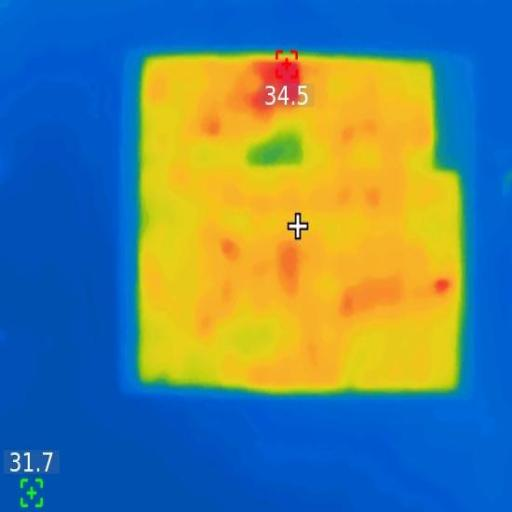hotspot: (254, 62, 306, 110), (280, 241, 306, 295), (204, 116, 223, 143), (436, 278, 454, 298)
